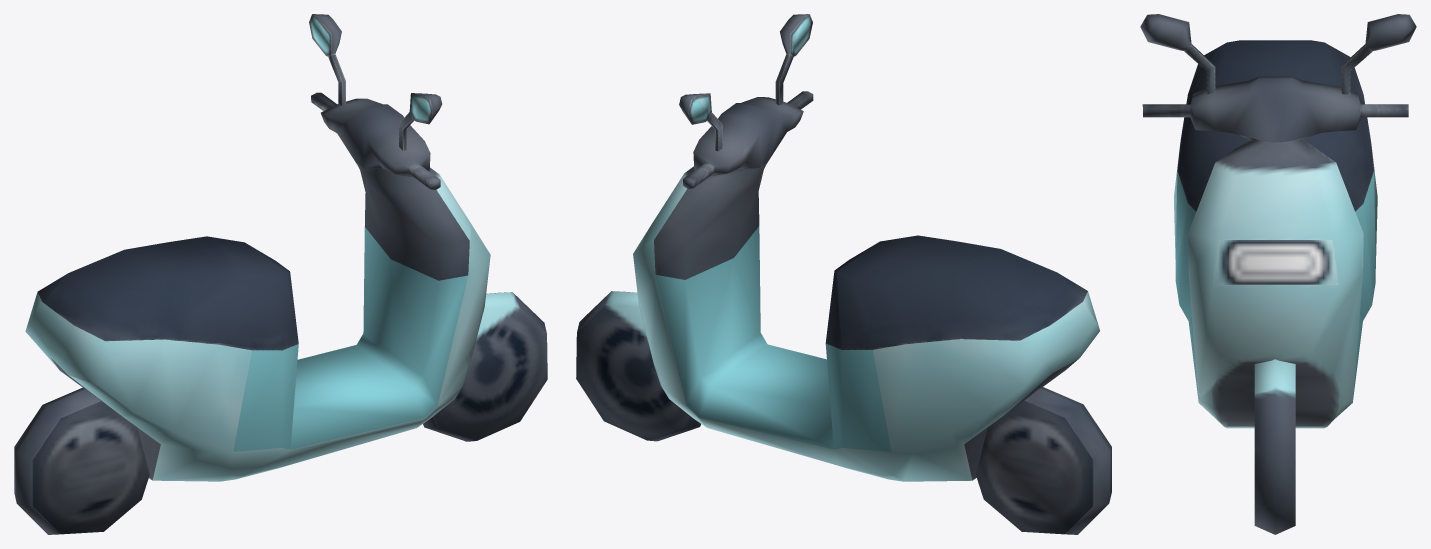
The model's file is Blue_scooter.glb.
3 renders of one model, left to right at view 1: azimuth 30°, elevation 25°; view 2: azimuth 150°, elevation 25°; view 3: azimuth 270°, elevation 25°, orthographic. The views are drawn at different scales.
Parts seen in each view (by area): view 1: Blue_scooter.001; view 2: Blue_scooter.001; view 3: Blue_scooter.001.
Part boxes in pixels (<box>): Blue_scooter.001: <box>14,14,547,534</box>; Blue_scooter.001: <box>576,14,1111,534</box>; Blue_scooter.001: <box>1140,14,1416,534</box>.
Bounding box in the file's own units: 1.01 × 0.7454 × 0.411.
1 material, 1 textured.
